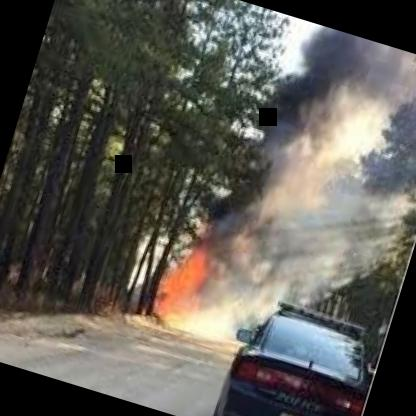fire: (149, 234, 228, 332)
